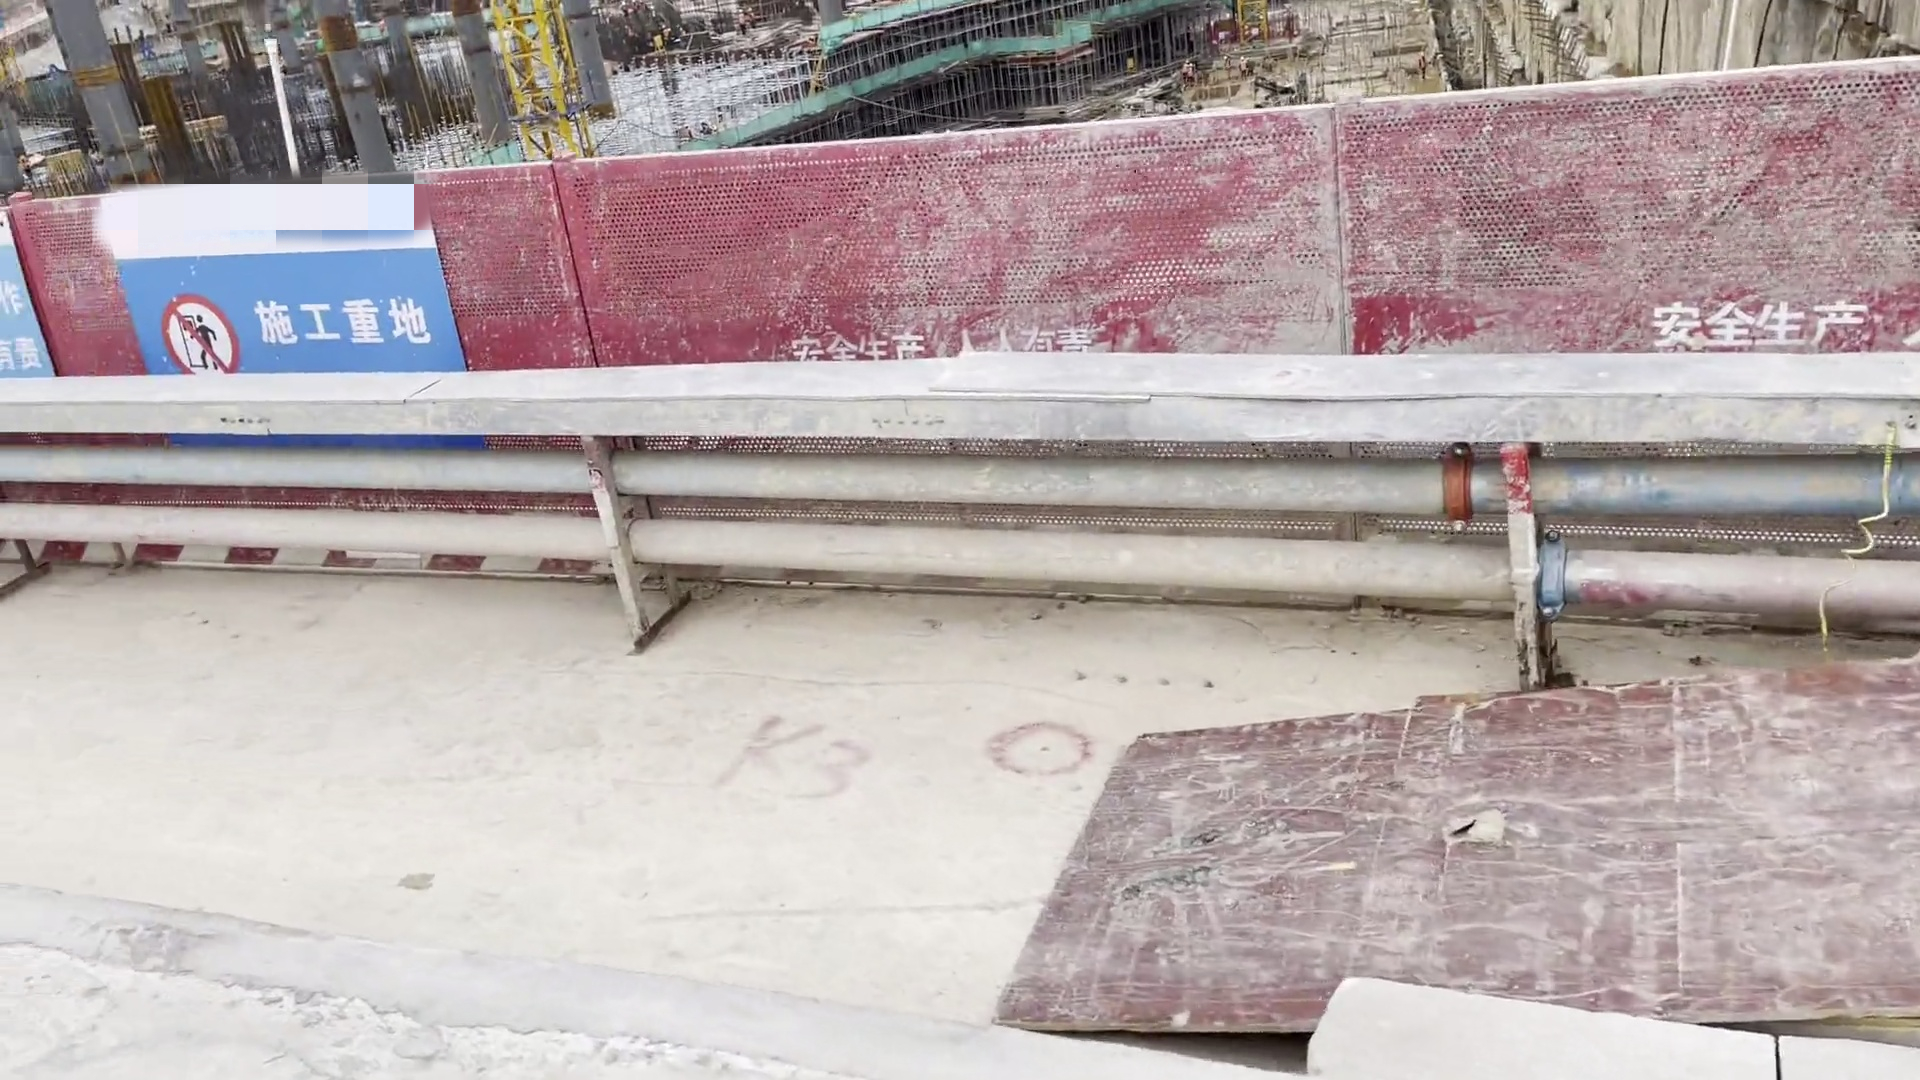helmet: (17, 153, 33, 164), (660, 23, 667, 30), (1418, 50, 1426, 58), (1240, 56, 1246, 61), (1185, 59, 1191, 64), (1223, 55, 1228, 61)
person: (14, 144, 67, 218), (655, 21, 677, 54), (1180, 53, 1198, 88), (732, 6, 751, 36), (745, 5, 761, 37), (1416, 47, 1430, 83), (1222, 53, 1234, 85), (1237, 55, 1248, 80)
vest: (1181, 66, 1195, 79), (748, 11, 757, 26), (661, 30, 672, 41), (1238, 62, 1246, 72), (1224, 62, 1231, 71), (738, 14, 743, 28)
